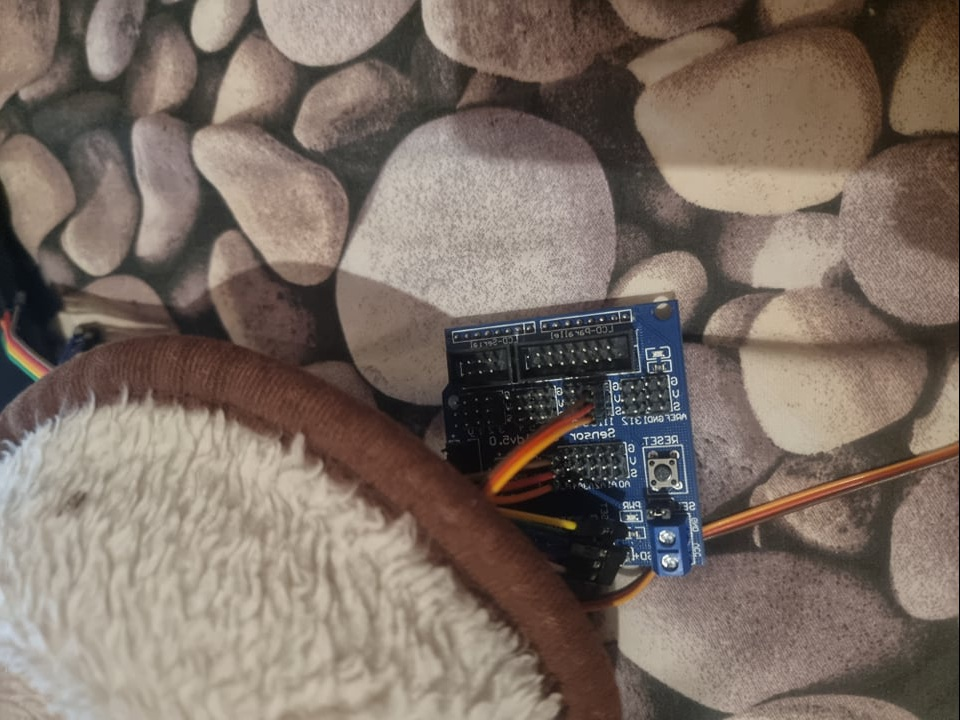5V EXPANSION: (447, 293, 707, 578)
